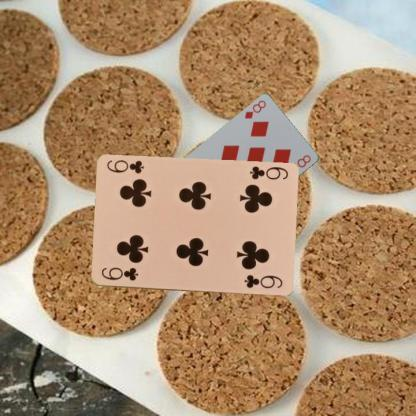6c: (98, 264, 139, 283), (247, 164, 289, 182)
8d: (243, 98, 268, 120)
